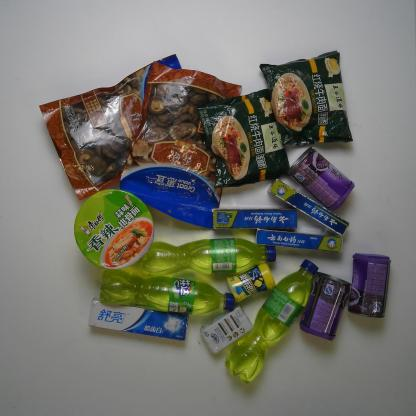Canned Food: (286, 145, 356, 214), (298, 269, 354, 342), (347, 252, 393, 320)
Dried Food: (35, 52, 185, 203), (118, 59, 244, 232)
Drink: (223, 256, 320, 388), (99, 266, 238, 316), (134, 237, 279, 278)
Gum: (225, 261, 279, 304)
Instant Noodles: (194, 87, 292, 190), (258, 49, 358, 148), (73, 187, 155, 271)
Milk: (198, 303, 256, 357)
Personal Hygiene: (266, 178, 352, 237), (87, 295, 190, 343), (252, 227, 344, 254), (209, 205, 299, 231)
